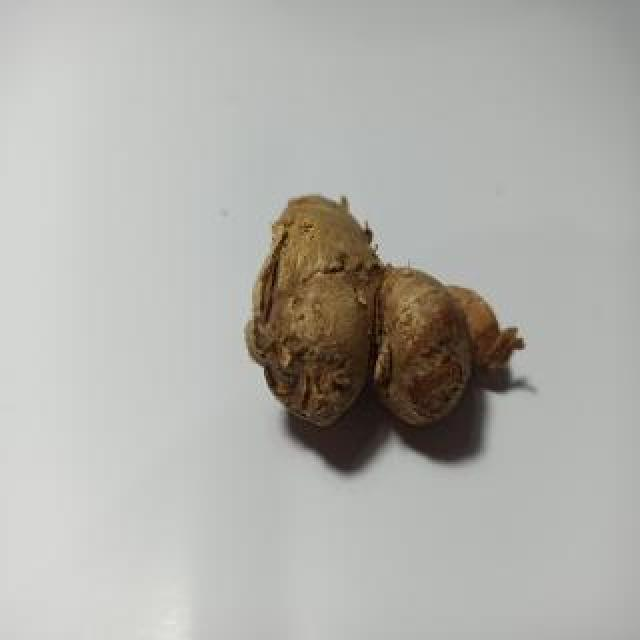ginger: (247, 209, 531, 431)
